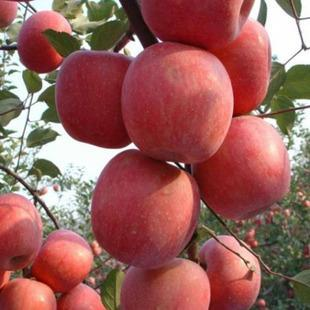apple: (122, 42, 234, 163), (88, 150, 202, 267), (194, 114, 290, 222), (54, 55, 138, 157), (202, 14, 270, 114), (137, 1, 253, 49), (197, 230, 261, 310), (120, 258, 214, 310), (28, 227, 94, 293), (15, 9, 71, 73), (1, 193, 42, 276), (1, 276, 60, 309), (54, 283, 105, 310)
